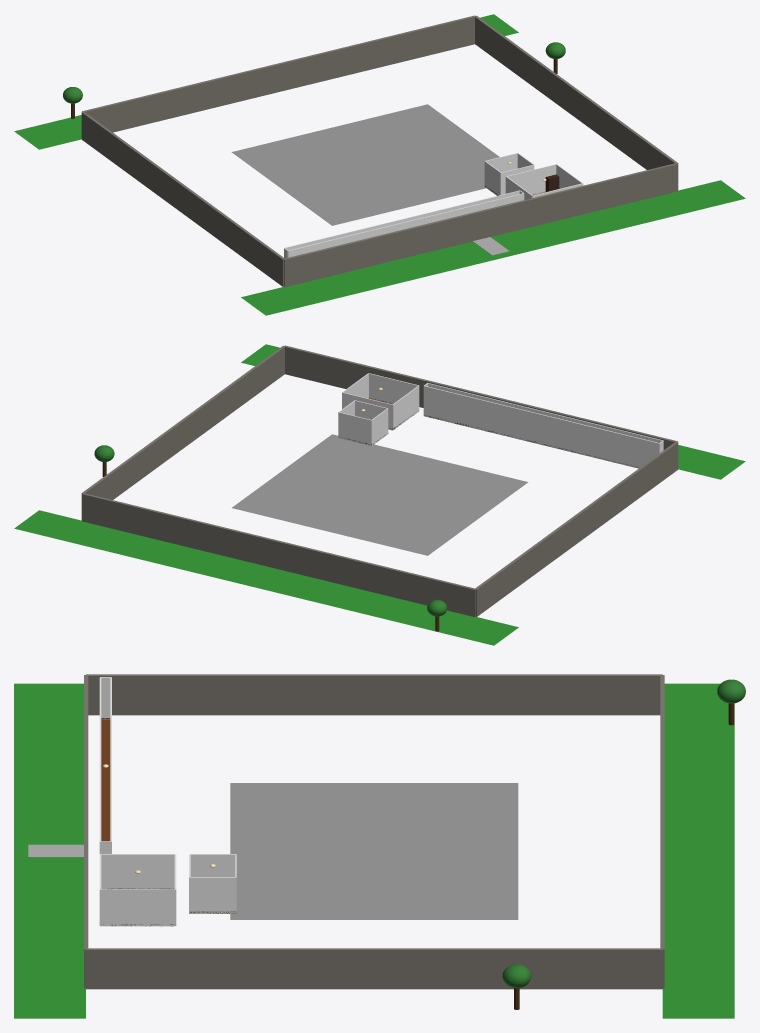
File: enhanced_boq_150f7cc1-0afd-4e04-a7ee-28c0d34d7bd6.obj
The picture shows the model from 3 angles, top to bottom: view 1: azimuth 30°, elevation 25°; view 2: azimuth 150°, elevation 25°; view 3: azimuth 270°, elevation 25°; orthographic projection. The views are drawn at different scales.
Parts seen in each view (by area): view 1: Foundation, ExteriorWall_South, FrontYard, ExteriorWall_North, ExteriorWall_West, ExteriorWall_East, SouthWall_Open_Living_Area, BackYard, NorthWall_Open_Living_Area, NorthWall_Master_Bedroom; view 2: Foundation, BackYard, ExteriorWall_North, NorthWall_Open_Living_Area, ExteriorWall_West, ExteriorWall_East, ExteriorWall_South, FrontYard, SouthWall_Open_Living_Area, SouthWall_Master_Bedroom, NorthWall_Bathroom, WestWall_Master_Bedroom; view 3: Foundation, ExteriorWall_East, ExteriorWall_West, BackYard, FrontYard, EastWall_Master_Bedroom, WestWall_Master_Bedroom, EastWall_Bathroom, ExteriorWall_North, ExteriorWall_South, Floor_Open_Living_Area, WestWall_Bathroom (+3 smaller).
Part boxes in pixels (x1=…): Foundation: x1=231, y1=104, x2=499, y2=225; ExteriorWall_South: x1=284, y1=163, x2=677, y2=286; FrontYard: x1=241, y1=180, x2=745, y2=315; ExteriorWall_North: x1=82, y1=15, x2=475, y2=132; ExteriorWall_West: x1=81, y1=111, x2=284, y2=286; ExteriorWall_East: x1=475, y1=15, x2=678, y2=190; SouthWall_Open_Living_Area: x1=288, y1=193, x2=523, y2=257; BackYard: x1=14, y1=14, x2=518, y2=149; NorthWall_Open_Living_Area: x1=284, y1=190, x2=519, y2=250; NorthWall_Master_Bedroom: x1=506, y1=164, x2=556, y2=194; Foundation: x1=232, y1=434, x2=528, y2=555; BackYard: x1=14, y1=510, x2=518, y2=645; ExteriorWall_North: x1=82, y1=493, x2=475, y2=616; NorthWall_Open_Living_Area: x1=423, y1=385, x2=659, y2=468; ExteriorWall_West: x1=475, y1=442, x2=678, y2=616; ExteriorWall_East: x1=81, y1=345, x2=284, y2=520; ExteriorWall_South: x1=284, y1=345, x2=677, y2=449; FrontYard: x1=241, y1=344, x2=745, y2=479; SouthWall_Open_Living_Area: x1=428, y1=383, x2=663, y2=442; SouthWall_Master_Bedroom: x1=369, y1=373, x2=418, y2=403; NorthWall_Bathroom: x1=338, y1=412, x2=371, y2=445; WestWall_Master_Bedroom: x1=392, y1=385, x2=419, y2=429; Foundation: x1=230, y1=783, x2=518, y2=919; ExteriorWall_East: x1=86, y1=948, x2=662, y2=989; ExteriorWall_West: x1=86, y1=674, x2=662, y2=715; BackYard: x1=662, y1=683, x2=734, y2=1018; FrontYard: x1=14, y1=683, x2=85, y2=1018; EastWall_Master_Bedroom: x1=100, y1=889, x2=175, y2=926; WestWall_Master_Bedroom: x1=100, y1=854, x2=175, y2=889; EastWall_Bathroom: x1=190, y1=877, x2=235, y2=913; ExteriorWall_North: x1=660, y1=675, x2=664, y2=988; ExteriorWall_South: x1=84, y1=675, x2=88, y2=988; Floor_Open_Living_Area: x1=101, y1=719, x2=110, y2=841; WestWall_Bathroom: x1=190, y1=854, x2=235, y2=876.
Bounding box in the file's own units: 55 × 3.3 × 50.79.
